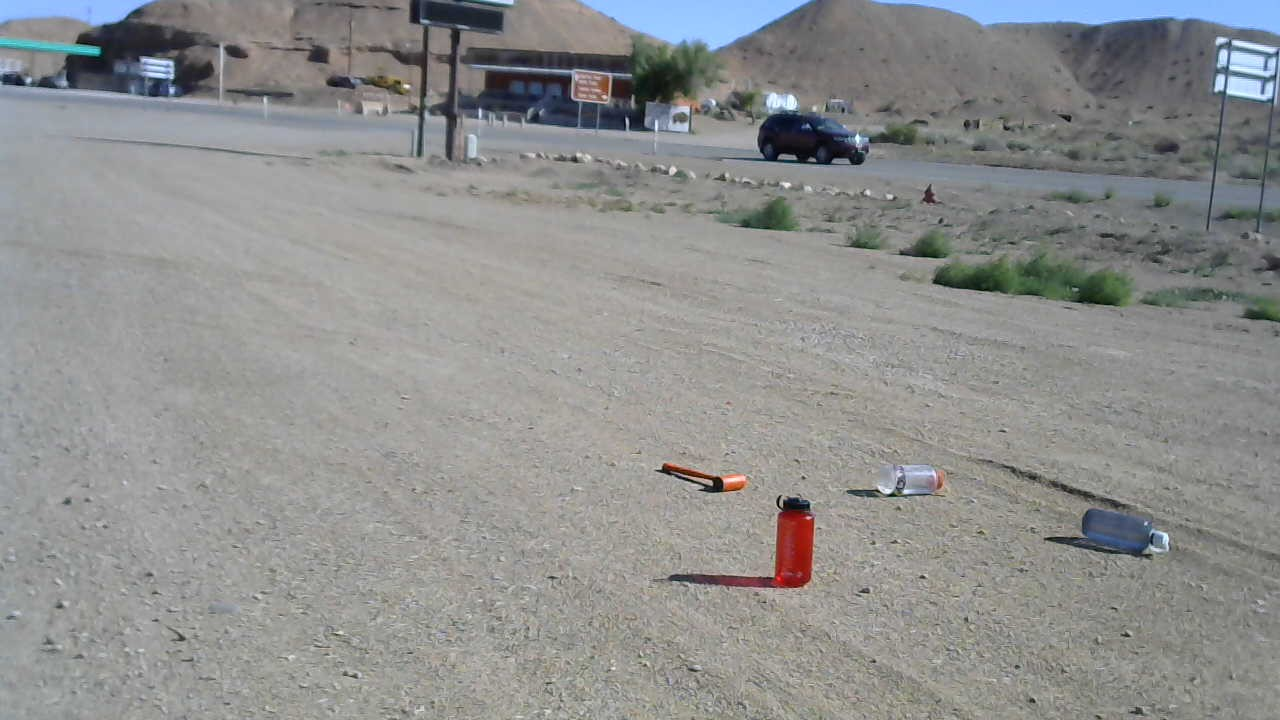bottle: (1082, 506, 1170, 559), (775, 491, 815, 588), (874, 464, 944, 497)
hammer: (660, 457, 747, 494)
